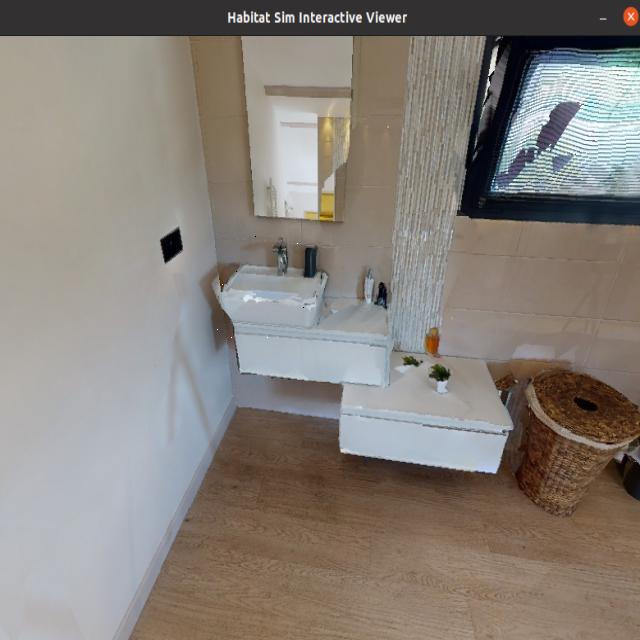sink: (217, 228, 332, 351)
